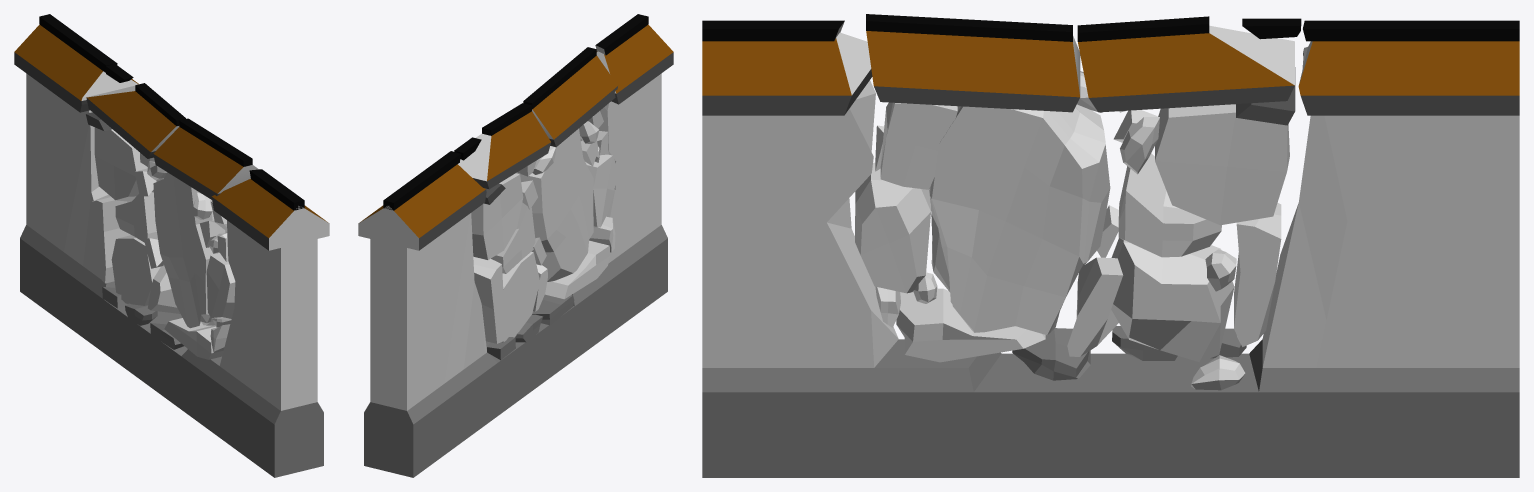
File: Wall_Destroy.fbx
3 renders of one model, left to right at view 1: azimuth 30°, elevation 25°; view 2: azimuth 150°, elevation 25°; view 3: azimuth 270°, elevation 25°, orthographic. The views are drawn at different scales.
Parts seen in each view (by area): view 1: Wall_Destroy, pCube126, pCube130, pCube129, pCube128, pCube135, pCube134, pCube132, pCube127, pCube133, pCube140, pCube137 (+7 smaller); view 2: Wall_Destroy, pCube126, pCube130, pCube129, pCube128, pCube135, pCube134, pCube133, pCube132, pCube127, pCube136, pCube141 (+6 smaller); view 3: Wall_Destroy, pCube126, pCube130, pCube129, pCube128, pCube135, pCube132, pCube127, pCube133, pCube131, pCube134, pCube140 (+6 smaller).
Boxes of the visible parts, x1,y1,x2,y2 form: Wall_Destroy: (14,14,329,477); pCube126: (153,172,224,328); pCube130: (153,118,258,199); pCube129: (86,83,186,158); pCube128: (86,112,162,201); pCube135: (111,235,160,305); pCube134: (91,194,130,283); pCube132: (206,253,235,320); pCube127: (115,192,157,242); pCube133: (164,318,223,359); pCube140: (148,265,180,313); pCube137: (125,303,157,325); Wall_Destroy: (358,14,673,477); pCube126: (516,128,593,281); pCube130: (523,47,617,147); pCube129: (458,103,550,189); pCube128: (471,173,523,259); pCube135: (502,252,539,342); pCube134: (473,256,505,343); pCube133: (545,240,610,299); pCube132: (585,154,617,227); pCube127: (491,202,535,273); pCube136: (532,294,574,325); pCube141: (589,216,615,252); Wall_Destroy: (702,20,1519,477); pCube126: (929,104,1110,334); pCube130: (866,14,1080,112); pCube129: (1077,16,1294,112); pCube128: (1155,67,1295,225); pCube135: (1111,238,1234,362); pCube132: (855,162,930,293); pCube127: (1118,153,1221,257); pCube133: (896,288,1045,362); pCube131: (880,102,957,189); pCube134: (1234,203,1281,346); pCube140: (1067,257,1123,356).
Bounding box in the file's own units: 0.138 × 0.5954 × 1.
